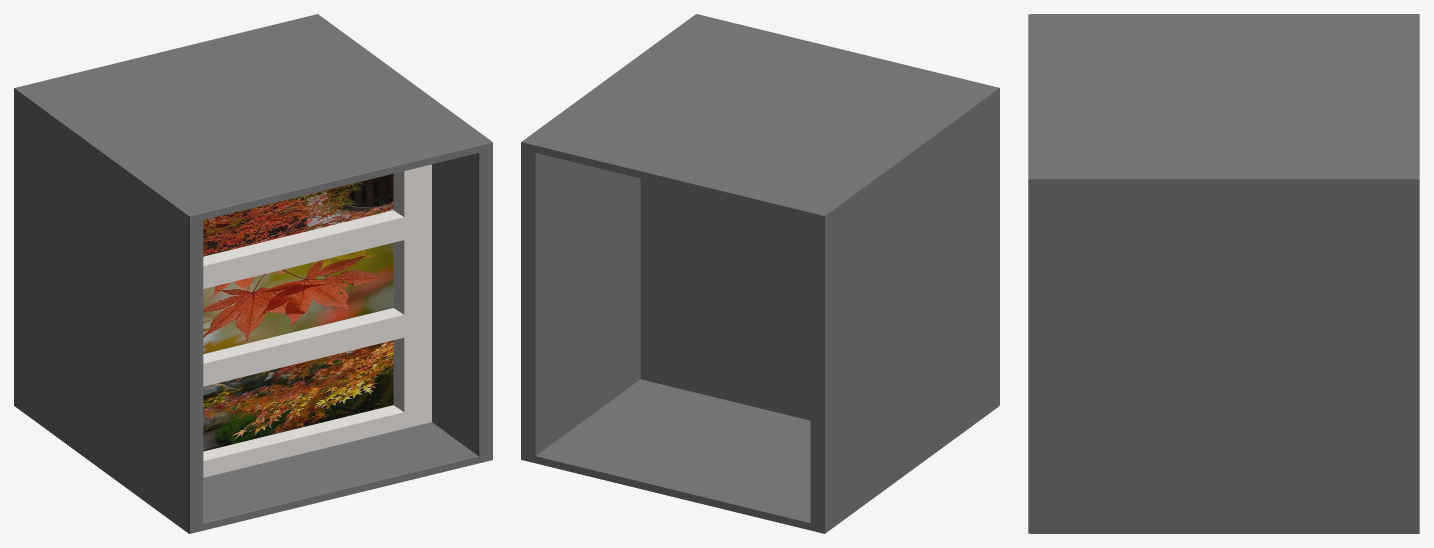
The model's file is sh-contrib-frame3-horizontal-momiji-photos.glb.
The picture shows the model from 3 angles, left to right: view 1: azimuth 30°, elevation 25°; view 2: azimuth 150°, elevation 25°; view 3: azimuth 270°, elevation 25°; orthographic projection. The views are drawn at different scales.
Parts seen in each view (by area): view 1: Frame_Cube.001, Inner_frame_Cube.003, Photo2_Plane, Photo3_Plane.002, Photo1_Plane.001; view 2: Frame_Cube.001; view 3: Frame_Cube.001.
Part boxes in pixels (bbox=[...]): Frame_Cube.001: bbox=[14, 14, 492, 533]; Inner_frame_Cube.003: bbox=[203, 164, 431, 477]; Photo2_Plane: bbox=[203, 242, 393, 353]; Photo3_Plane.002: bbox=[203, 340, 393, 451]; Photo1_Plane.001: bbox=[203, 173, 393, 256]; Frame_Cube.001: bbox=[521, 14, 999, 533]; Frame_Cube.001: bbox=[1028, 14, 1419, 533].
Size of the model in its own units: 1 by 1 by 1.
5 materials, 3 textured.
